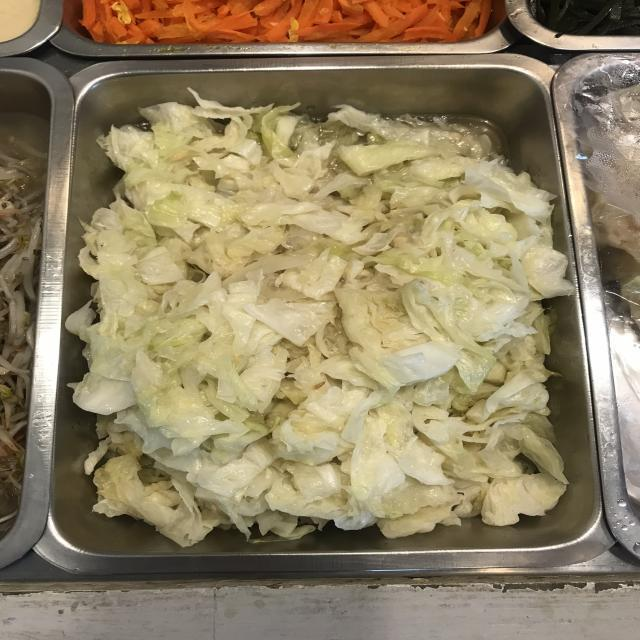carrot_eggs: (106, 0, 472, 42)
chinese_cabbage: (111, 121, 548, 517)
mung_bean_sprouts: (0, 170, 42, 338)
